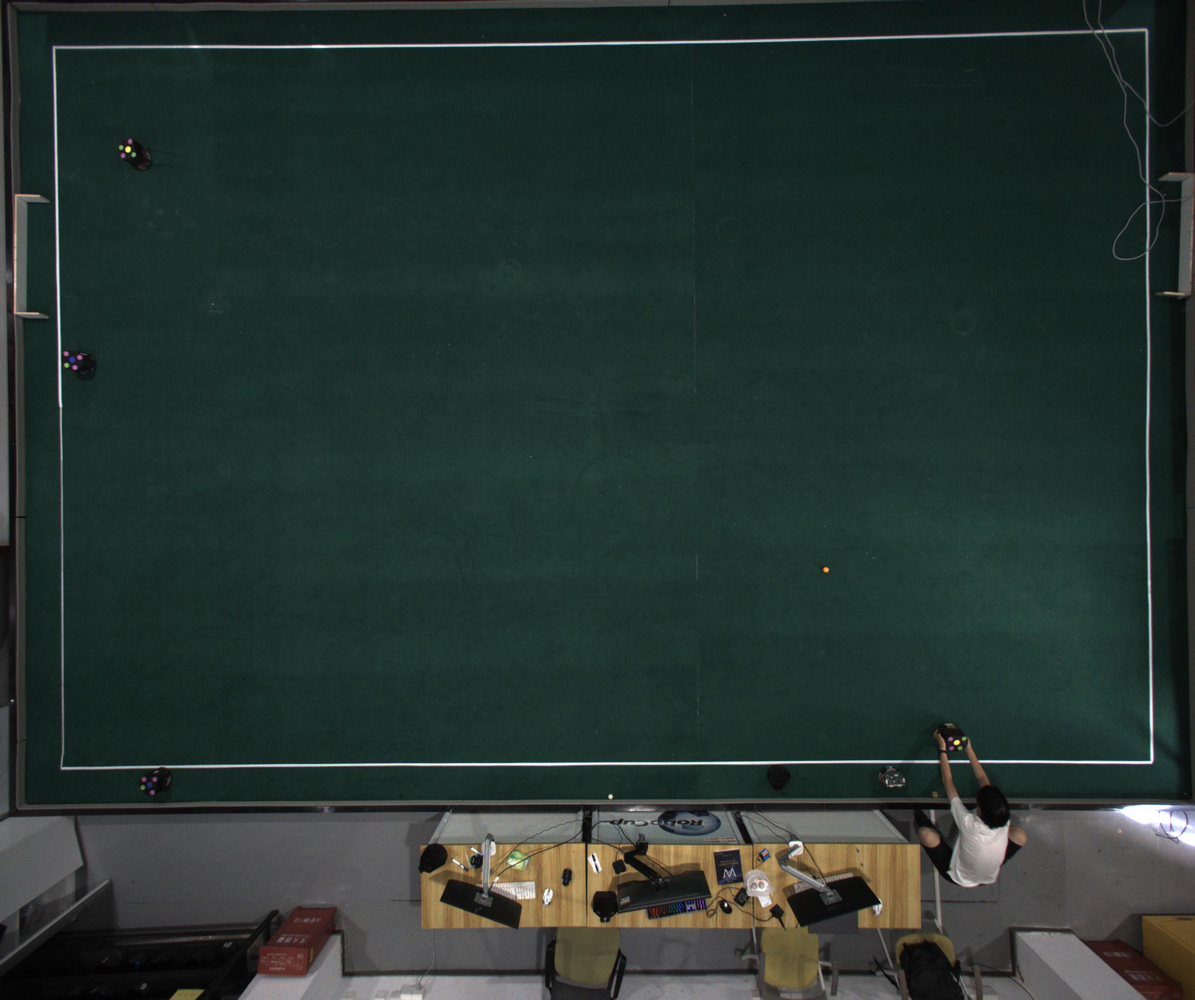ball: (824, 567, 829, 573)
blue_bot: (139, 775, 161, 796), (62, 350, 84, 371)
yellow_bot: (119, 138, 138, 161), (947, 736, 968, 752)
